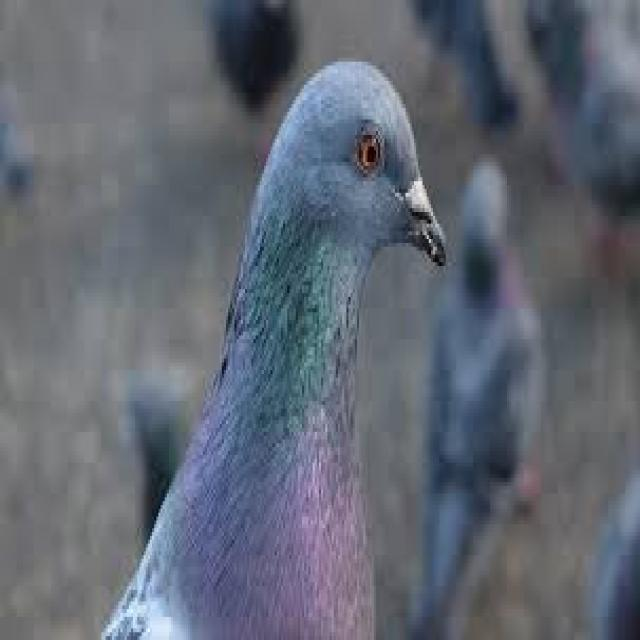pigeon: (93, 28, 472, 640)
